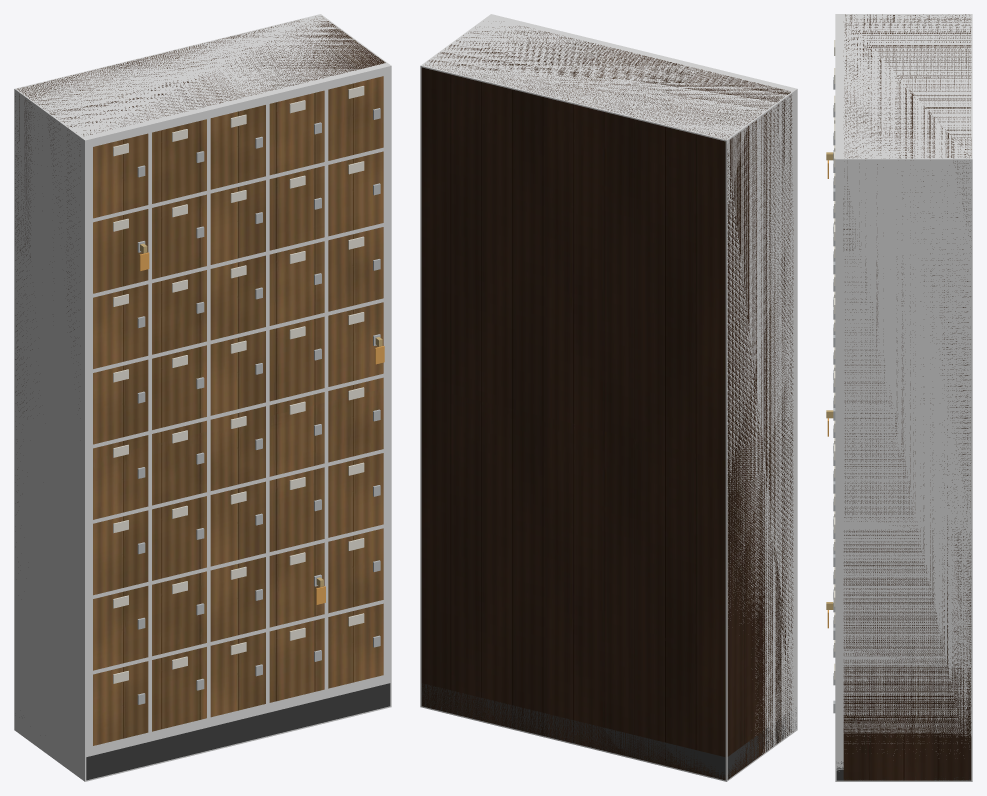
The model's file is shoe_locker.mobile.glb.
3 renders of one model, left to right at view 1: azimuth 30°, elevation 25°; view 2: azimuth 150°, elevation 25°; view 3: azimuth 270°, elevation 25°, orthographic. The views are drawn at different scales.
Parts seen in each view (by area): view 1: ShoeLocker, COL_Locker; view 2: ShoeLocker, COL_Locker; view 3: COL_Locker, ShoeLocker.
Boxes of the visible parts, x1=… form: ShoeLocker: x1=15, y1=16, x2=390, y2=780; COL_Locker: x1=14, y1=14, x2=391, y2=781; ShoeLocker: x1=421, y1=26, x2=796, y2=780; COL_Locker: x1=420, y1=14, x2=797, y2=781; COL_Locker: x1=835, y1=14, x2=972, y2=781; ShoeLocker: x1=826, y1=14, x2=971, y2=780.
Size of the model in its own units: 1 by 2 by 0.426.
Materials: 7 (2 with a texture image).
